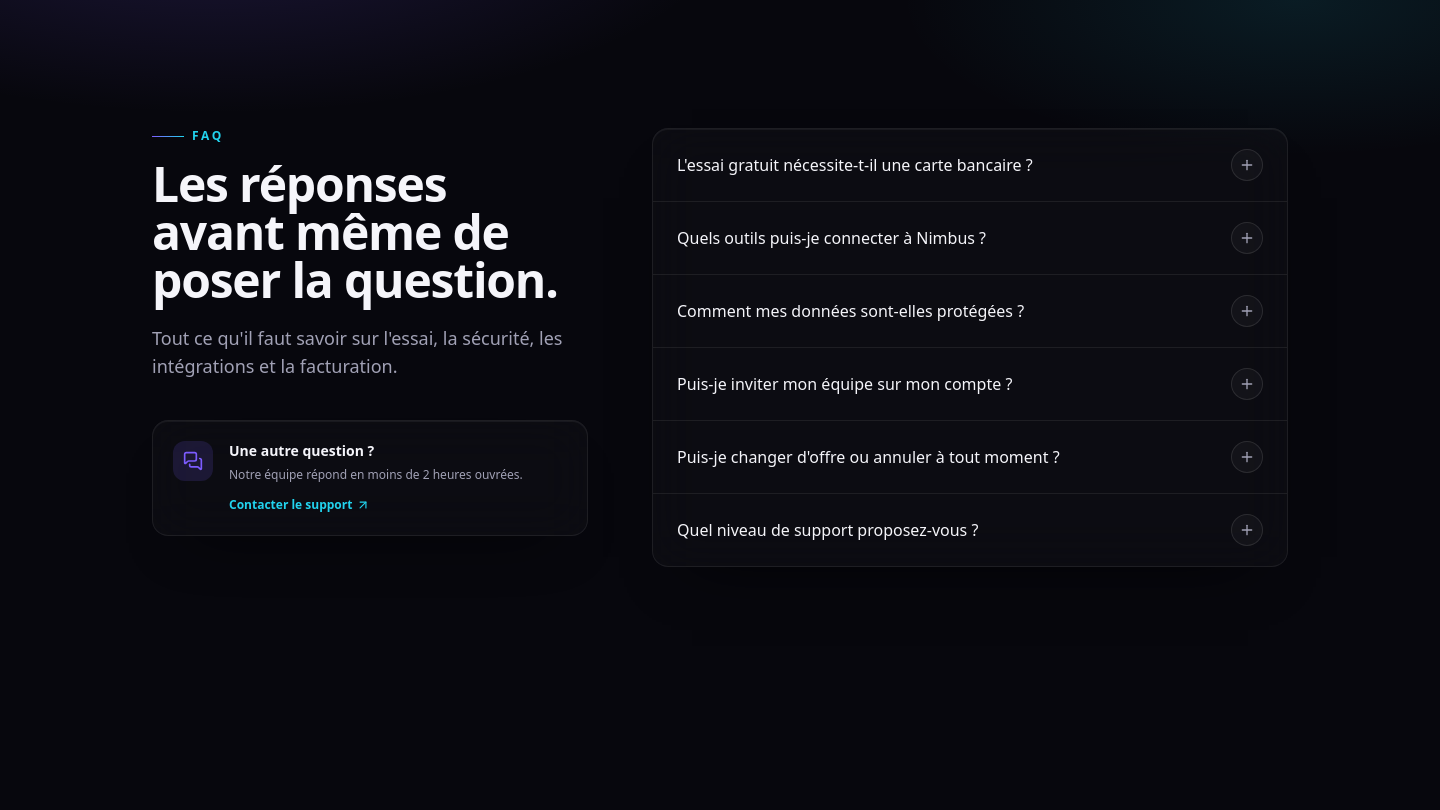
Scenario: Faq (accordéon) › referme la question ouverte quand on reclique dessus
Click the button "L'essai gratuit nécessite-t-il une carte bancaire ?". click: (970, 165)
box: [653,129,1287,201]
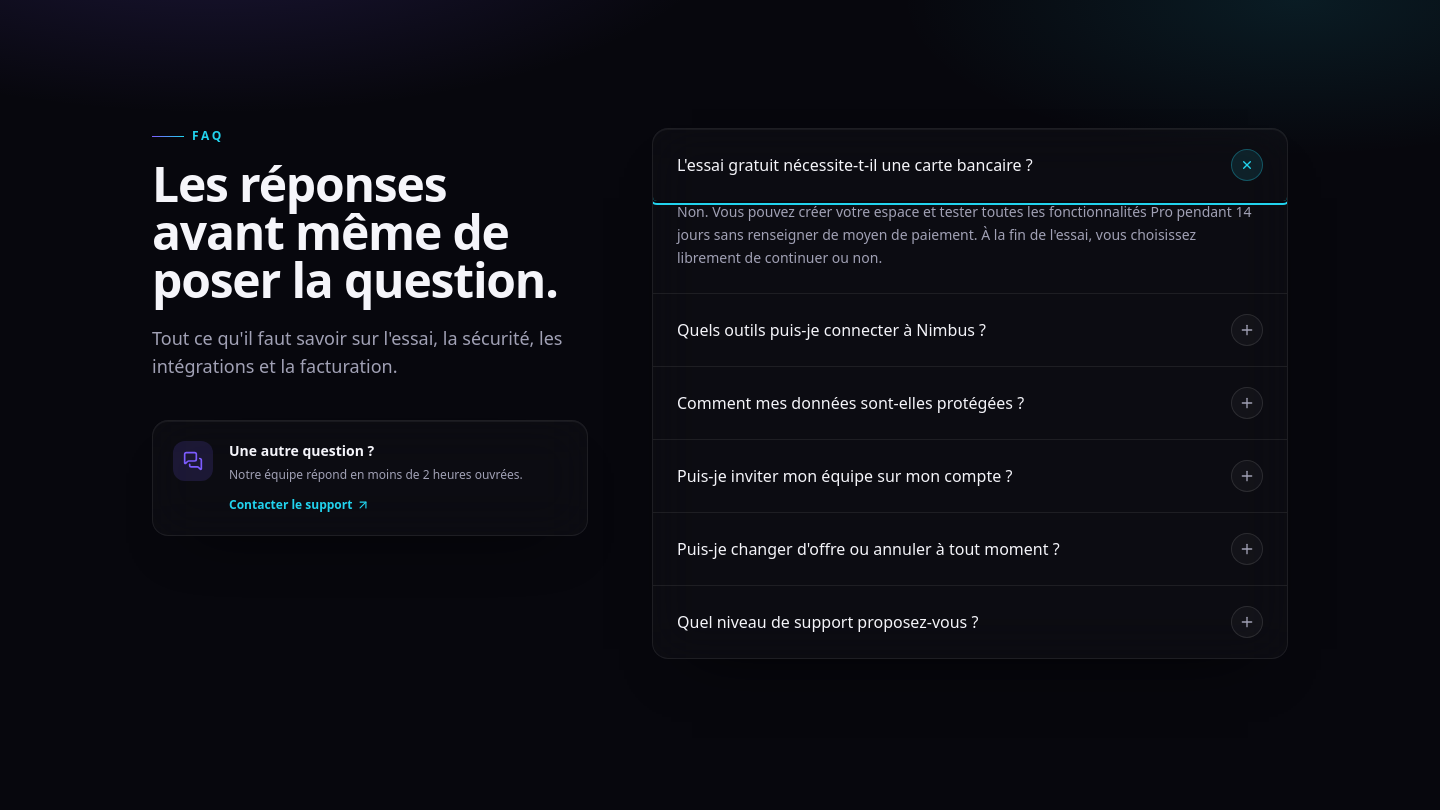
Click the button "L'essai gratuit nécessite-t-il une carte bancaire ?". click: (970, 165)
box: [653,129,1287,201]
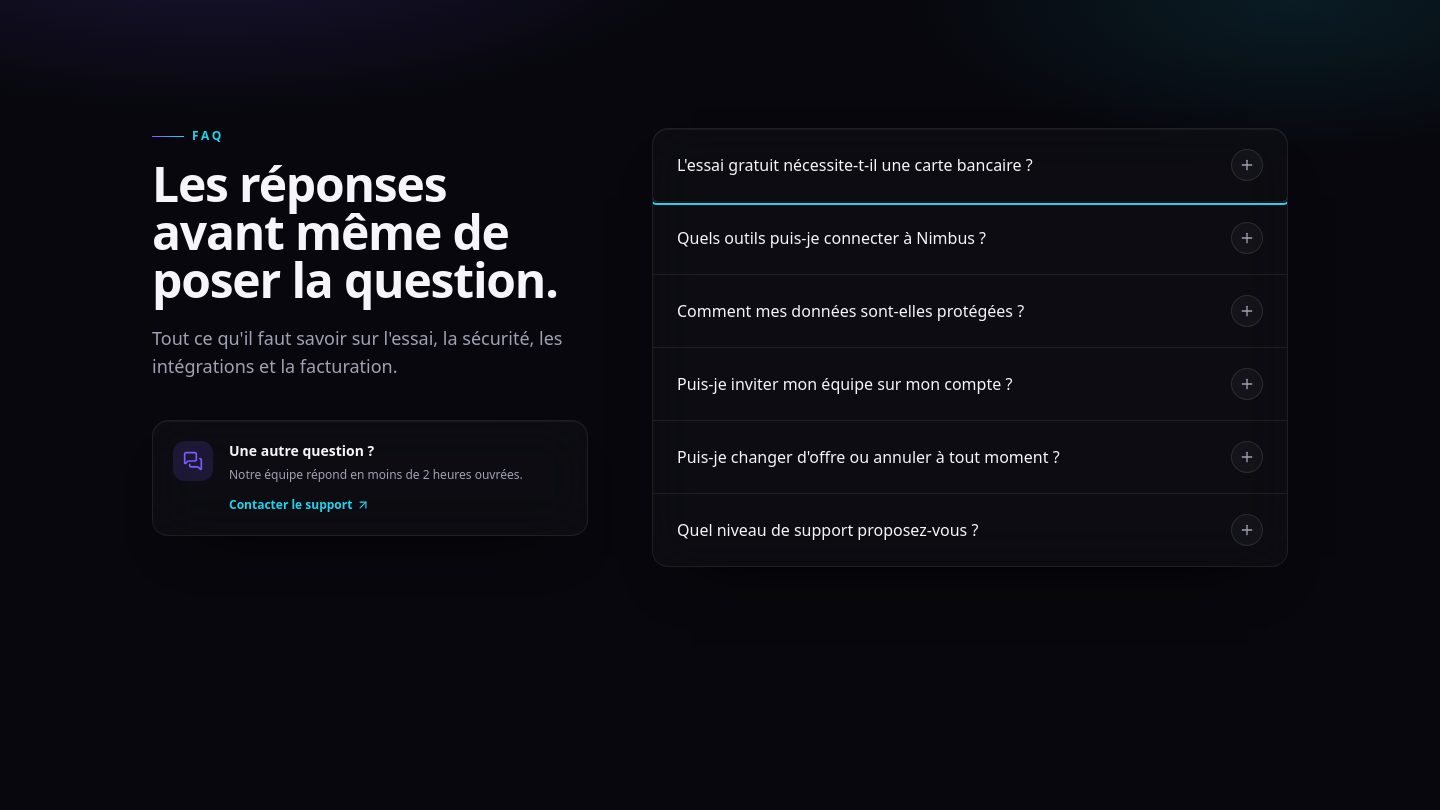
Result: the button "L'essai gratuit nécessite-t-il une carte bancaire ?" is collapsed at [653,129,1287,201]
